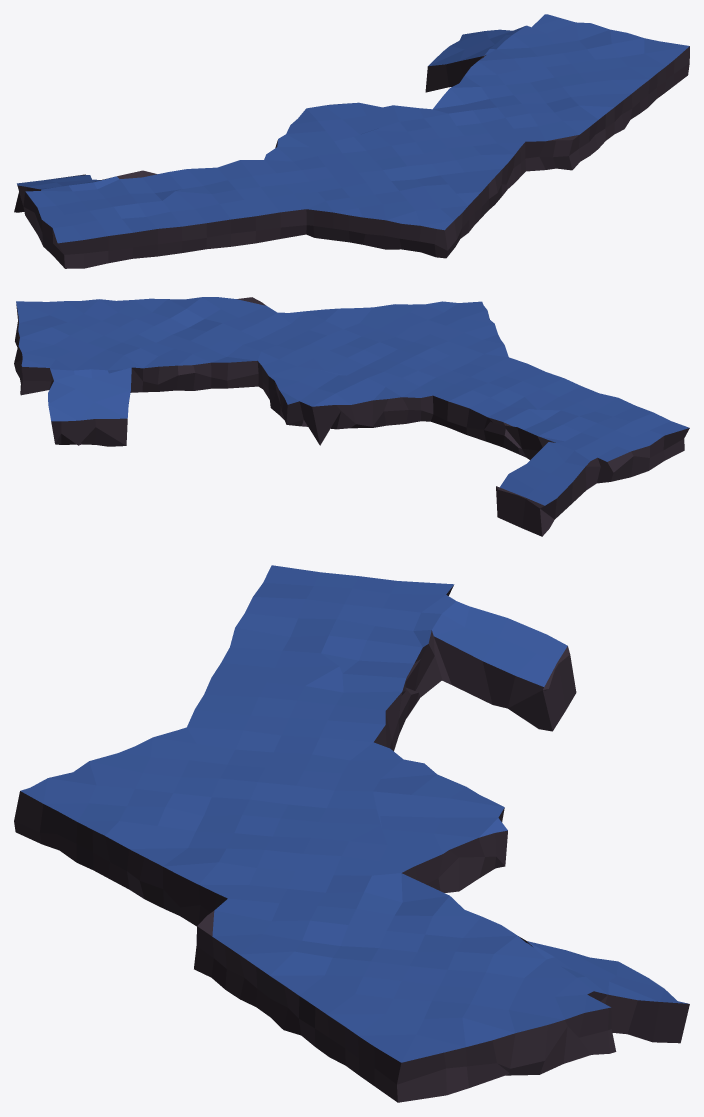
The model's file is highground 3.fbx.
The picture shows the model from 3 angles, top to bottom: view 1: azimuth 30°, elevation 25°; view 2: azimuth 150°, elevation 25°; view 3: azimuth 270°, elevation 25°; orthographic projection. The views are drawn at different scales.
Visible parts, largest first — view 1: Plane.003; view 2: Plane.003; view 3: Plane.003.
Boxes of the visible parts, left/top/right/bottom form: Plane.003: left=14, top=14, right=689, bottom=268; Plane.003: left=14, top=297, right=689, bottom=536; Plane.003: left=14, top=565, right=689, bottom=1102.
Bounding box in the file's own units: 30743 × 2628 × 17575.
